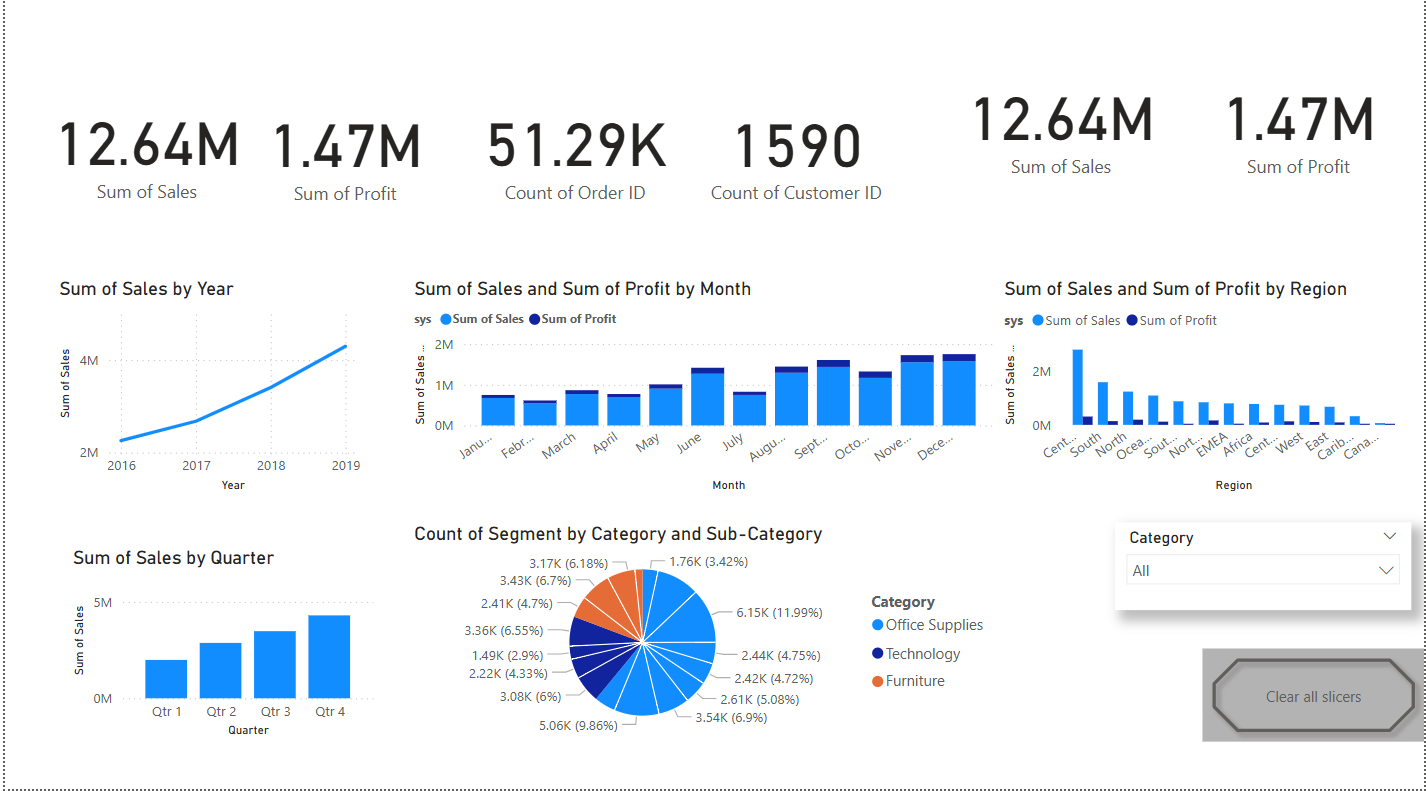

The page's visual inventory and layout, read from the dashboard file:
{"tool":"powerbi","page":{"name":"mail1","canvas":[1280,720],"ordinal":0},"visuals":[{"type":"card","fields":{"Values":["Sum(Orders.Sales)"]},"box":[33,90.5,190.8,103.9],"z":0},{"type":"card","fields":{"Values":["Sum(Orders.Profit)"]},"box":[223.8,68.5,165.1,150.4],"z":1000},{"type":"card","fields":{"Values":["CountNonNull(Orders.Order ID)"]},"box":[388.9,67.3,250.7,150.4],"z":2000},{"type":"card","fields":{"Values":["Count(Orders.Customer ID)"]},"box":[604.1,68.5,218.9,149.2],"z":3000},{"type":"card","fields":{"Values":["Sum(Orders.Sales)"]},"box":[823,45.2,259.2,149.2],"z":4000},{"type":"card","fields":{"Values":["Sum(Orders.Profit)"]},"box":[1052.9,45.2,227.4,149.2],"z":5000},{"type":"lineChart","fields":{"Category":["Orders.Order Date.Variation.Date Hierarchy.Year"],"Y":["Sum(Orders.Sales)"]},"box":[44,258,281.3,198.1],"z":6000},{"type":"columnChart","fields":{"Category":["Orders.Order Date.Variation.Date Hierarchy.Month"],"Y":["Sum(Orders.Sales)","Sum(Orders.Profit)"]},"box":[364.4,258,531.9,198.1],"z":7000},{"type":"clusteredColumnChart","fields":{"Y":["Sum(Orders.Sales)","Sum(Orders.Profit)"],"Category":["Orders.Region"]},"box":[896.3,258,371.7,198.1],"z":8000},{"type":"columnChart","fields":{"Category":["Orders.Order Date.Variation.Date Hierarchy.Quarter"],"Y":["Sum(Orders.Sales)"]},"box":[56.3,500.1,281.3,177.3],"z":9000},{"type":"pieChart","fields":{"Category":["Orders.Category"],"Series":["Orders.Sub-Category"],"Y":["CountNonNull(Orders.Segment)"]},"box":[364,479,532,198],"z":10000},{"type":"slicer","fields":{"Values":["Orders.Category"]},"box":[1001.3,479,266.9,79.4],"z":11000},{"type":"actionButton","box":[1079.8,593.1,200.5,84.4],"z":13000}]}

Visuals, with their boxes in screenshot pixels (x1, y1, x2, y2), scaled from the page's 1280x720 canvas onto the 1426x791 screenshot:
card - Sum(Orders.Sales): (left=37, top=99, right=249, bottom=214)
card - Sum(Orders.Profit): (left=249, top=75, right=433, bottom=240)
card - CountNonNull(Orders.Order ID): (left=433, top=74, right=713, bottom=239)
card - Count(Orders.Customer ID): (left=673, top=75, right=917, bottom=239)
card - Sum(Orders.Sales): (left=917, top=50, right=1206, bottom=214)
card - Sum(Orders.Profit): (left=1173, top=50, right=1425, bottom=214)
lineChart - Orders.Order Date.Variation.Date Hierarchy.Year x Sum(Orders.Sales): (left=49, top=283, right=362, bottom=501)
columnChart - Orders.Order Date.Variation.Date Hierarchy.Month x Sum(Orders.Sales): (left=406, top=283, right=999, bottom=501)
clusteredColumnChart - Sum(Orders.Sales) x Sum(Orders.Profit): (left=999, top=283, right=1413, bottom=501)
columnChart - Orders.Order Date.Variation.Date Hierarchy.Quarter x Sum(Orders.Sales): (left=63, top=549, right=376, bottom=744)
pieChart - Orders.Category x Orders.Sub-Category: (left=406, top=526, right=998, bottom=744)
slicer - Orders.Category: (left=1116, top=526, right=1413, bottom=613)
actionButton: (left=1203, top=652, right=1425, bottom=744)
